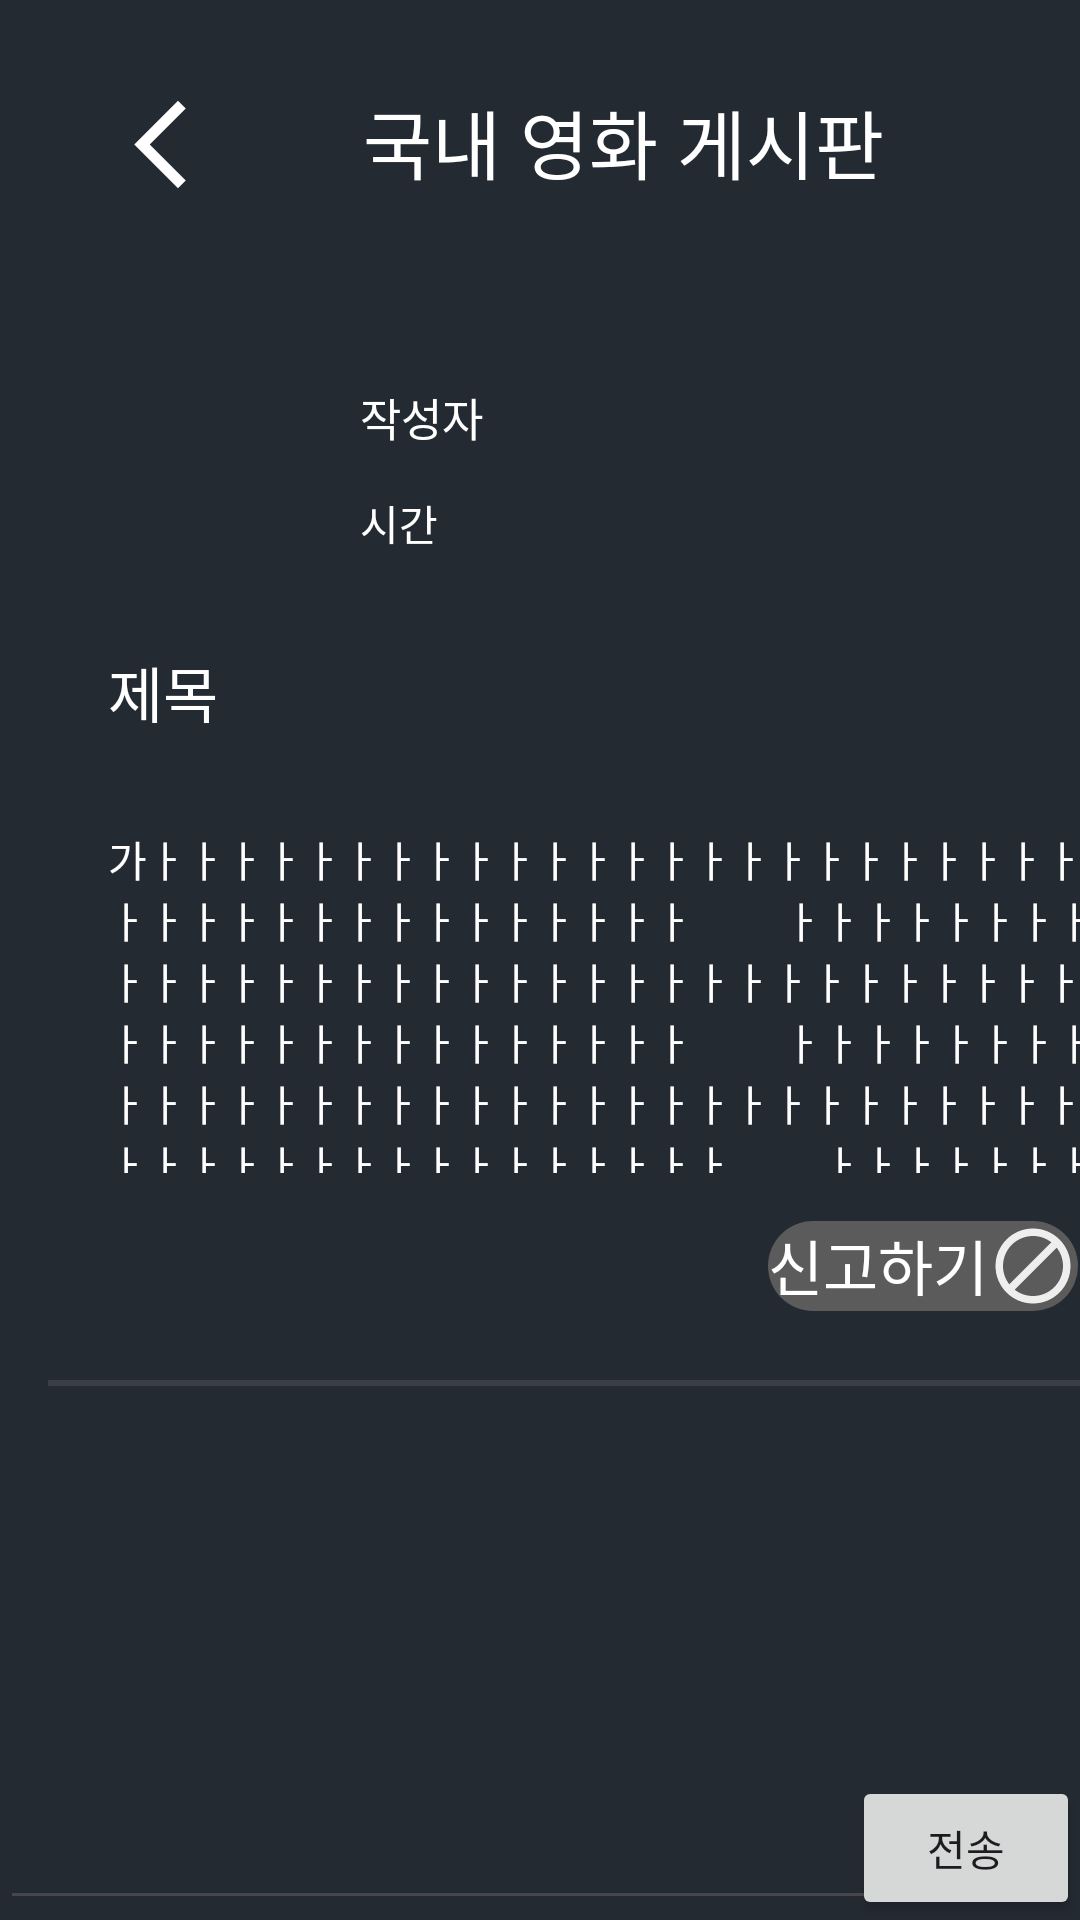

Icons on this 1080x1920 Android screen, each with the point to tap as (x=x, y=y):
arrow back: (x=160, y=144)
block: (x=1033, y=1266)
